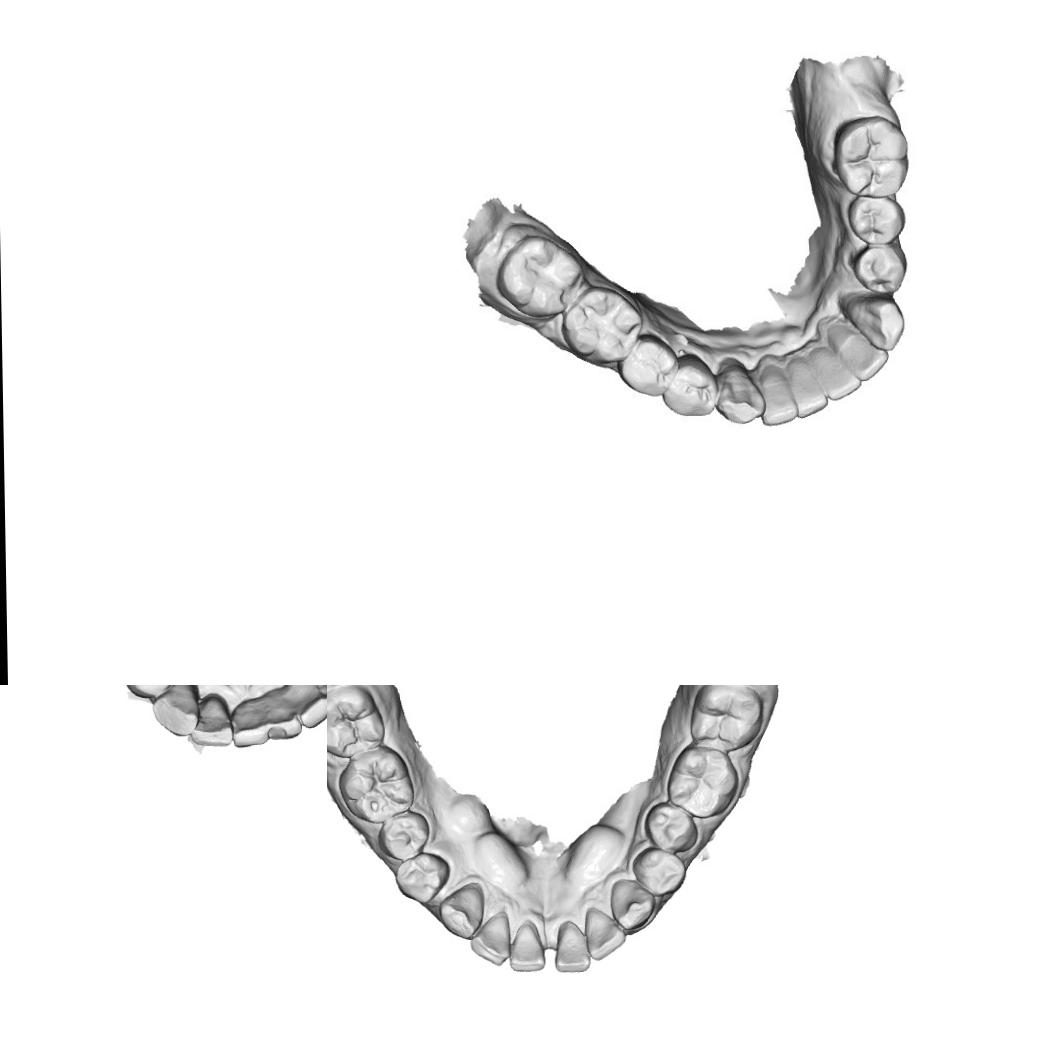canine: (842, 291, 907, 353), (713, 361, 770, 429), (437, 882, 485, 941), (149, 685, 201, 738), (608, 876, 656, 933)
incisor: (824, 316, 891, 381), (811, 334, 865, 402), (754, 354, 802, 428), (788, 354, 830, 422), (582, 904, 628, 962), (470, 912, 514, 970), (189, 692, 234, 748), (552, 918, 591, 974), (508, 920, 546, 974), (229, 700, 272, 747), (264, 696, 304, 744), (291, 685, 327, 731)
molar: (494, 231, 582, 319), (828, 113, 912, 199), (560, 284, 647, 364), (336, 744, 417, 826), (665, 742, 741, 820), (687, 685, 766, 754), (327, 685, 386, 760)
premolar: (618, 331, 678, 402), (662, 351, 720, 418), (842, 191, 904, 244), (850, 240, 910, 294), (391, 850, 451, 904), (642, 800, 700, 854), (375, 810, 435, 861), (630, 846, 688, 898), (123, 685, 176, 702)
